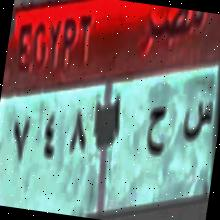4: (36, 106, 64, 170)
7: (8, 112, 34, 166)
7aa: (140, 98, 172, 170)
8: (64, 103, 92, 159)
alif: (107, 90, 128, 140)
seen: (179, 96, 216, 150)
